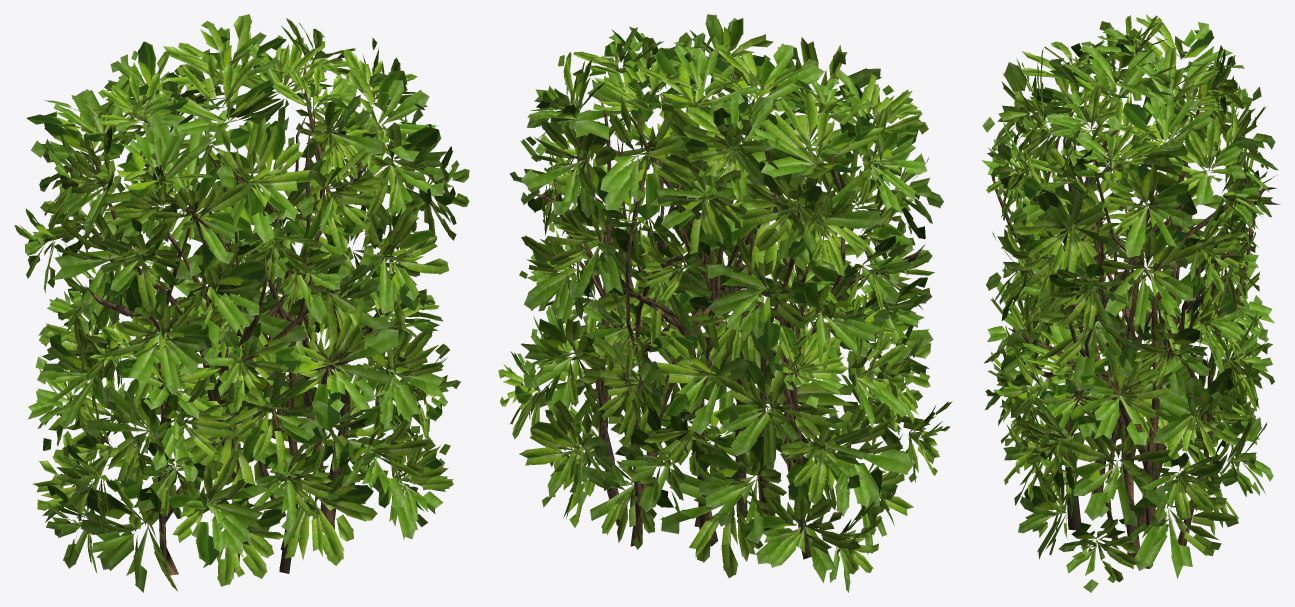
Rendered from hedge.glb.
3 renders of one model, left to right at view 1: azimuth 30°, elevation 25°; view 2: azimuth 150°, elevation 25°; view 3: azimuth 270°, elevation 25°, orthographic. The views are drawn at different scales.
Parts seen in each view (by area): view 1: hedge_leaves, hedge_stems; view 2: hedge_leaves, hedge_stems; view 3: hedge_leaves, hedge_stems.
Boxes of the visible parts, bbox=[...] form: hedge_leaves: bbox=[14, 14, 469, 592]; hedge_stems: bbox=[78, 50, 398, 575]; hedge_leaves: bbox=[498, 14, 952, 592]; hedge_stems: bbox=[532, 63, 925, 559]; hedge_leaves: bbox=[982, 14, 1278, 592]; hedge_stems: bbox=[992, 86, 1280, 568].
Bounding box in the file's own units: 1.51 × 1.79 × 1.04.
2 materials, 2 textured.
